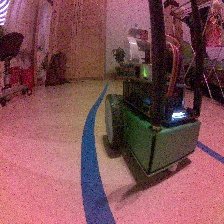rob: (103, 39, 201, 178)
